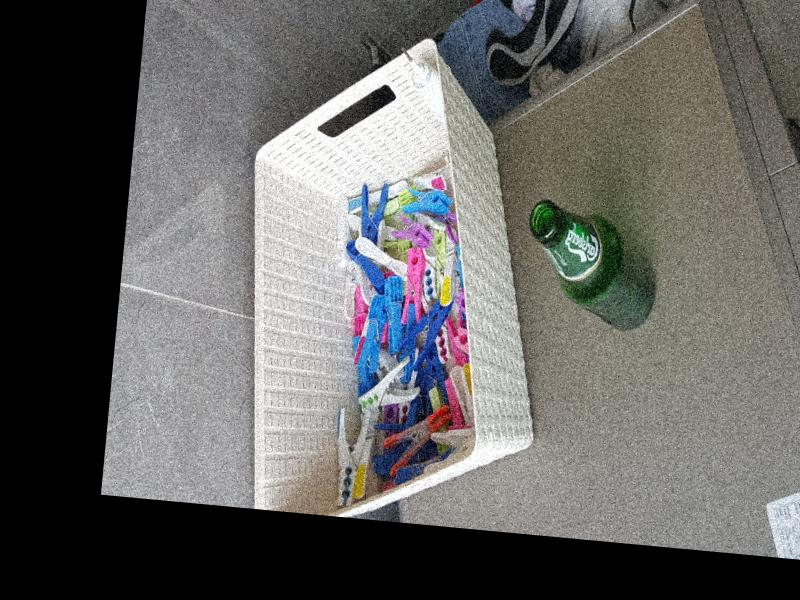Beer: (523, 197, 665, 330)
